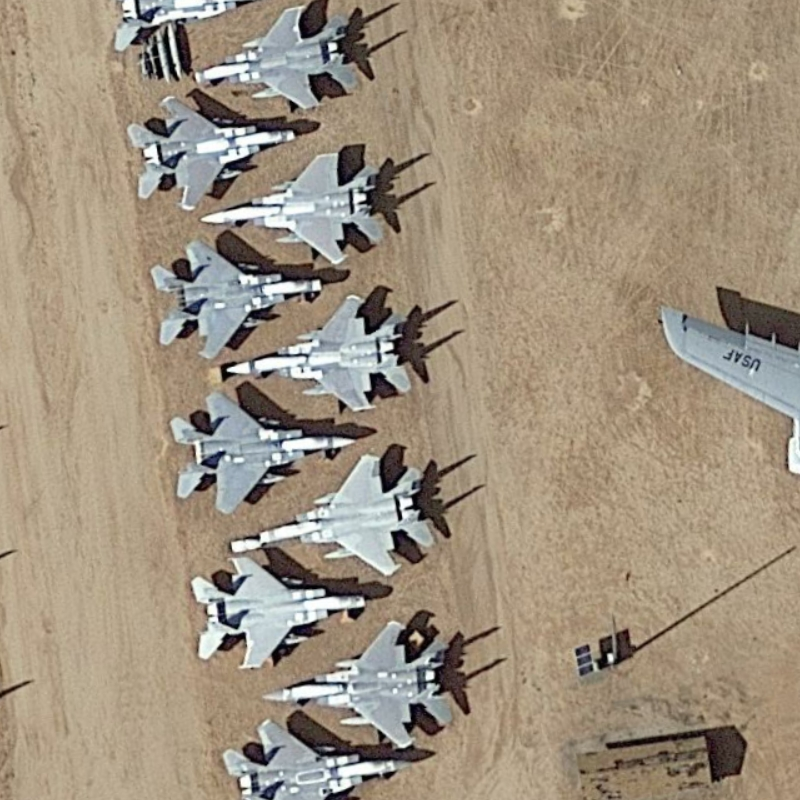A13: (226, 449, 454, 576), (259, 616, 470, 748), (220, 289, 434, 419), (162, 384, 361, 516), (197, 142, 400, 267), (143, 235, 329, 365), (123, 84, 299, 217), (186, 550, 370, 672), (185, 5, 379, 114), (215, 714, 413, 800)
